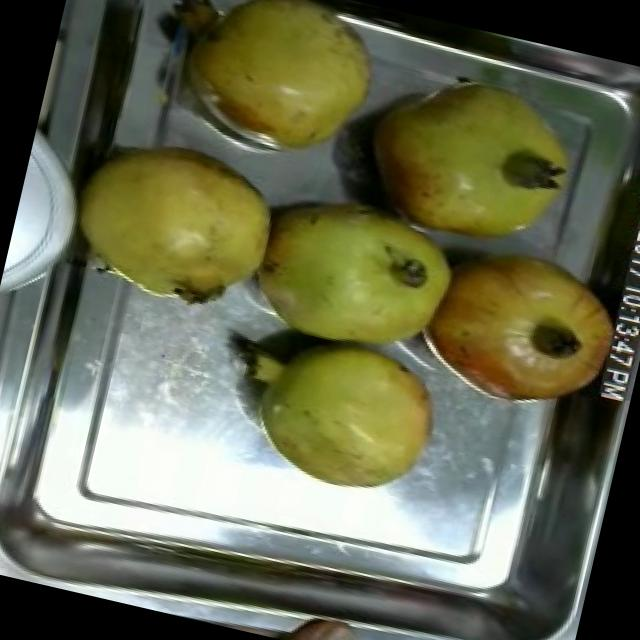fruit: (344, 46, 606, 276), (50, 113, 308, 337), (216, 306, 464, 512), (235, 172, 476, 370), (146, 0, 404, 184), (407, 228, 634, 428)
